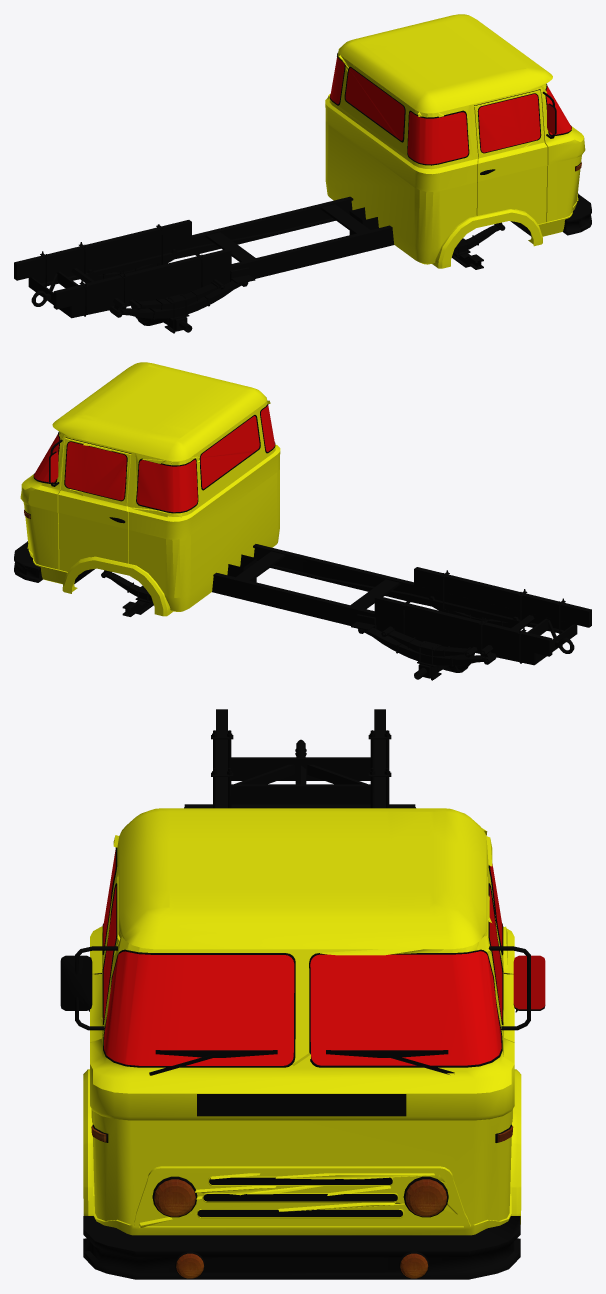
Rendered from Truck__Body__.fbx.
The picture shows the model from 3 angles, top to bottom: view 1: azimuth 30°, elevation 25°; view 2: azimuth 150°, elevation 25°; view 3: azimuth 270°, elevation 25°; orthographic projection. The views are drawn at different scales.
Visible parts, largest first — view 1: polySurface9; view 2: polySurface9; view 3: polySurface9.
Part boxes in pixels (<box>): polySurface9: <box>14,14,591,333</box>; polySurface9: <box>14,362,591,680</box>; polySurface9: <box>60,709,545,1279</box>.
Bounding box in the file's own units: 71.98 × 26.01 × 29.1.
4 materials, 1 textured.
